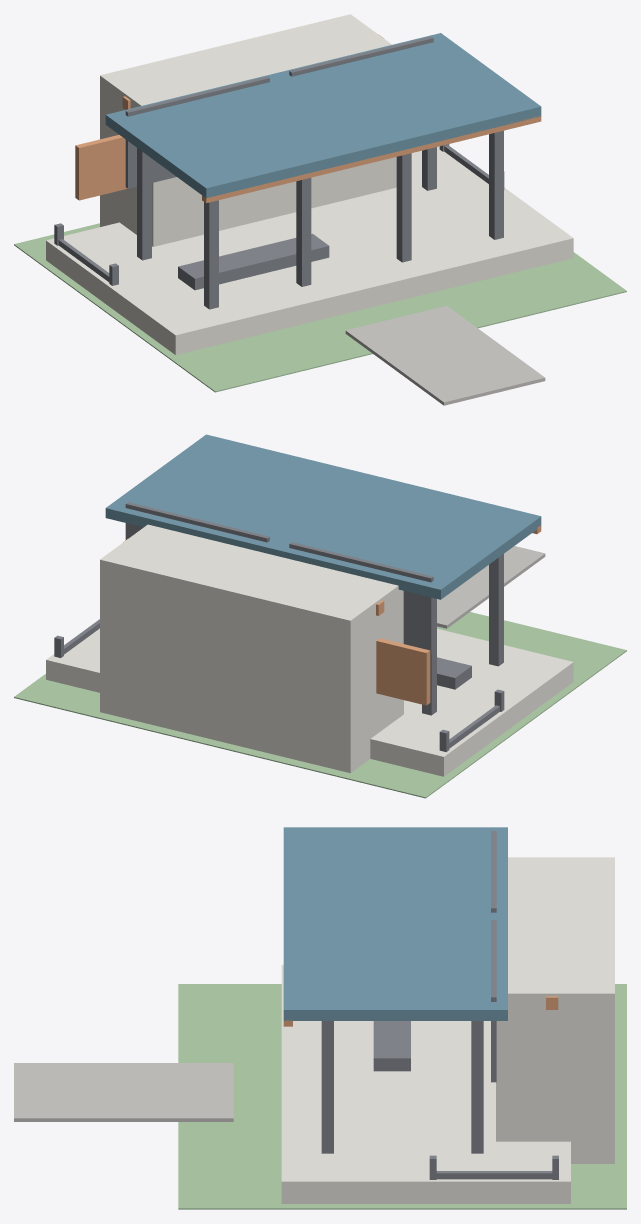
Rendered from BUILDING_CIVIC_SPORTS_PAVILION_001_LOD_GAMEPLAY.glb.
The picture shows the model from 3 angles, top to bottom: view 1: azimuth 30°, elevation 25°; view 2: azimuth 150°, elevation 25°; view 3: azimuth 270°, elevation 25°; orthographic projection. The views are drawn at different scales.
Visible parts, largest first — view 1: MOD_FOUNDATION_STANDARD_RECT_001.001, BUILDING_CIVIC_SPORTS_PAVILION_001_CANOPY_ROOF_GAMEPLAY, BUILDING_CIVIC_SPORTS_PAVILION_001_SERVICE_BLOCK_GAMEPLAY, MOD_GROUND_GRASS_STANDARD_001_GAMEPLAY_PATCH, MOD_PATH_STANDARD_001_GAMEPLAY_SURFACE, BUILDING_CIVIC_SPORTS_PAVILION_001_BENCH_GAMEPLAY_0, BUILDING_CIVIC_SPORTS_PAVILION_001_SIGN_GAMEPLAY, BUILDING_CIVIC_SPORTS_PAVILION_001_ROOF_EDGE_GAMEPLAY, MOD_WINDOW_RESIDENTIAL_LARGE_001_COASTAL_PANORAMIC_WINDOW_GA, BUILDING_CIVIC_SPORTS_PAVILION_001_POST_GAMEPLAY_1, BUILDING_CIVIC_SPORTS_PAVILION_001_POST_GAMEPLAY_2, BUILDING_CIVIC_SPORTS_PAVILION_001_POST_GAMEPLAY_0 (+4 smaller); view 2: BUILDING_CIVIC_SPORTS_PAVILION_001_SERVICE_BLOCK_GAMEPLAY, BUILDING_CIVIC_SPORTS_PAVILION_001_CANOPY_ROOF_GAMEPLAY, MOD_FOUNDATION_STANDARD_RECT_001.001, MOD_GROUND_GRASS_STANDARD_001_GAMEPLAY_PATCH, BUILDING_CIVIC_SPORTS_PAVILION_001_SIGN_GAMEPLAY, MOD_WINDOW_RESIDENTIAL_LARGE_001_COASTAL_PANORAMIC_WINDOW_GA, MOD_PATH_STANDARD_001_GAMEPLAY_SURFACE, BUILDING_CIVIC_SPORTS_PAVILION_001_POST_GAMEPLAY_0, MOD_WINDOW_RESIDENTIAL_LARGE_001_COASTAL_PANORAMIC_WINDOW_G., BUILDING_CIVIC_SPORTS_PAVILION_001_BENCH_GAMEPLAY_0, BUILDING_CIVIC_SPORTS_PAVILION_001_POST_GAMEPLAY_4, MOD_FENCE_STANDARD_001_GAMEPLAY_RAIL; view 3: BUILDING_CIVIC_SPORTS_PAVILION_001_CANOPY_ROOF_GAMEPLAY, MOD_FOUNDATION_STANDARD_RECT_001.001, BUILDING_CIVIC_SPORTS_PAVILION_001_SERVICE_BLOCK_GAMEPLAY, MOD_GROUND_GRASS_STANDARD_001_GAMEPLAY_PATCH, MOD_PATH_STANDARD_001_GAMEPLAY_SURFACE, BUILDING_CIVIC_SPORTS_PAVILION_001_BENCH_GAMEPLAY_0, BUILDING_CIVIC_SPORTS_PAVILION_001_POST_GAMEPLAY_3, BUILDING_CIVIC_SPORTS_PAVILION_001_POST_GAMEPLAY_5, MOD_FENCE_STANDARD_001_GAMEPLAY_RAIL.001, MOD_WINDOW_RESIDENTIAL_LARGE_001_COASTAL_PANORAMIC_WINDOW_G..
Part boxes in pixels (x1,y1,x2,y2): MOD_FOUNDATION_STANDARD_RECT_001.001: [46, 146, 573, 354]; BUILDING_CIVIC_SPORTS_PAVILION_001_CANOPY_ROOF_GAMEPLAY: [105, 33, 541, 198]; BUILDING_CIVIC_SPORTS_PAVILION_001_SERVICE_BLOCK_GAMEPLAY: [100, 14, 396, 246]; MOD_GROUND_GRASS_STANDARD_001_GAMEPLAY_PATCH: [14, 223, 626, 392]; MOD_PATH_STANDARD_001_GAMEPLAY_SURFACE: [345, 305, 545, 405]; BUILDING_CIVIC_SPORTS_PAVILION_001_BENCH_GAMEPLAY_0: [178, 233, 329, 290]; BUILDING_CIVIC_SPORTS_PAVILION_001_SIGN_GAMEPLAY: [75, 135, 127, 200]; BUILDING_CIVIC_SPORTS_PAVILION_001_ROOF_EDGE_GAMEPLAY: [202, 115, 541, 203]; MOD_WINDOW_RESIDENTIAL_LARGE_001_COASTAL_PANORAMIC_WINDOW_GA: [125, 76, 269, 188]; BUILDING_CIVIC_SPORTS_PAVILION_001_POST_GAMEPLAY_1: [296, 178, 311, 286]; BUILDING_CIVIC_SPORTS_PAVILION_001_POST_GAMEPLAY_2: [396, 153, 411, 262]; BUILDING_CIVIC_SPORTS_PAVILION_001_POST_GAMEPLAY_0: [204, 200, 218, 309]; BUILDING_CIVIC_SPORTS_PAVILION_001_SERVICE_BLOCK_GAMEPLAY: [100, 524, 403, 773]; BUILDING_CIVIC_SPORTS_PAVILION_001_CANOPY_ROOF_GAMEPLAY: [105, 434, 541, 599]; MOD_FOUNDATION_STANDARD_RECT_001.001: [46, 628, 573, 776]; MOD_GROUND_GRASS_STANDARD_001_GAMEPLAY_PATCH: [14, 612, 626, 798]; BUILDING_CIVIC_SPORTS_PAVILION_001_SIGN_GAMEPLAY: [376, 638, 430, 705]; MOD_WINDOW_RESIDENTIAL_LARGE_001_COASTAL_PANORAMIC_WINDOW_GA: [289, 542, 433, 654]; MOD_PATH_STANDARD_001_GAMEPLAY_SURFACE: [437, 546, 545, 628]; BUILDING_CIVIC_SPORTS_PAVILION_001_POST_GAMEPLAY_0: [489, 554, 503, 666]; MOD_WINDOW_RESIDENTIAL_LARGE_001_COASTAL_PANORAMIC_WINDOW_G.: [125, 502, 269, 542]; BUILDING_CIVIC_SPORTS_PAVILION_001_BENCH_GAMEPLAY_0: [437, 657, 471, 689]; BUILDING_CIVIC_SPORTS_PAVILION_001_POST_GAMEPLAY_4: [422, 598, 436, 715]; MOD_FENCE_STANDARD_001_GAMEPLAY_RAIL: [449, 705, 499, 748]; BUILDING_CIVIC_SPORTS_PAVILION_001_CANOPY_ROOF_GAMEPLAY: [283, 827, 507, 1020]; MOD_FOUNDATION_STANDARD_RECT_001.001: [281, 965, 570, 1203]; BUILDING_CIVIC_SPORTS_PAVILION_001_SERVICE_BLOCK_GAMEPLAY: [496, 857, 614, 1163]; MOD_GROUND_GRASS_STANDARD_001_GAMEPLAY_PATCH: [178, 984, 626, 1209]; MOD_PATH_STANDARD_001_GAMEPLAY_SURFACE: [14, 1063, 233, 1121]; BUILDING_CIVIC_SPORTS_PAVILION_001_BENCH_GAMEPLAY_0: [373, 1021, 410, 1071]; BUILDING_CIVIC_SPORTS_PAVILION_001_POST_GAMEPLAY_3: [321, 1021, 333, 1153]; BUILDING_CIVIC_SPORTS_PAVILION_001_POST_GAMEPLAY_5: [471, 1021, 483, 1153]; MOD_FENCE_STANDARD_001_GAMEPLAY_RAIL.001: [436, 1171, 552, 1179]; MOD_WINDOW_RESIDENTIAL_LARGE_001_COASTAL_PANORAMIC_WINDOW_G.: [491, 920, 496, 1082].
Size of the model in its own units: 7.8 by 2.97 by 9.01.
